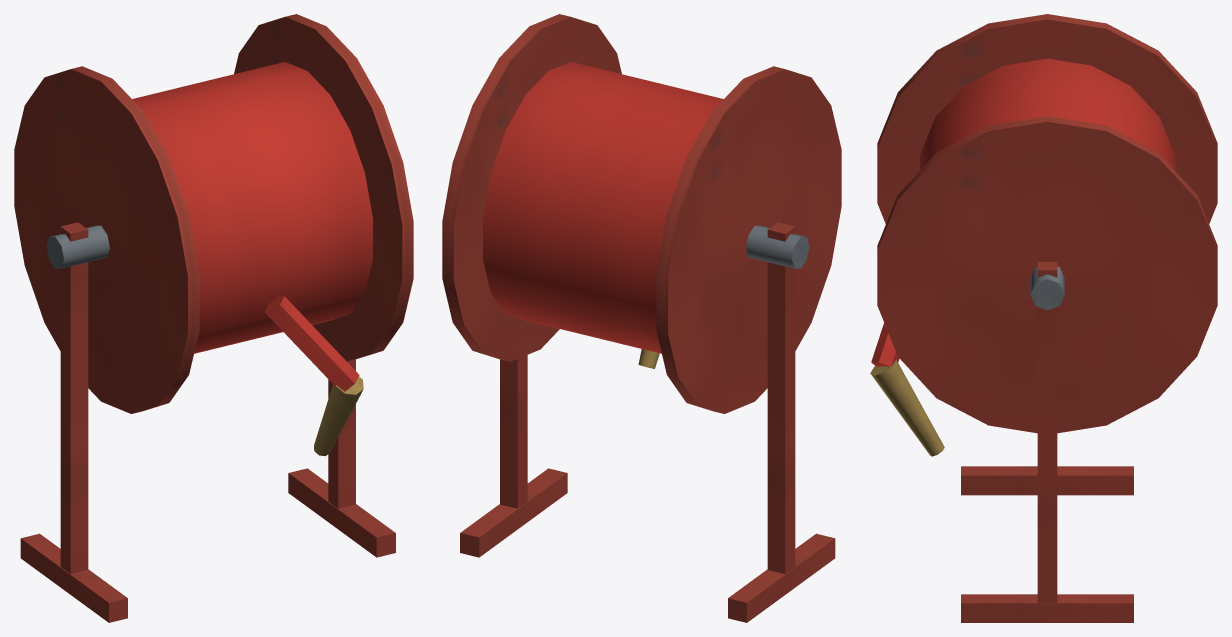
The model's file is hose_reel_lc.obj.
The picture shows the model from 3 angles, left to right: view 1: azimuth 30°, elevation 25°; view 2: azimuth 150°, elevation 25°; view 3: azimuth 270°, elevation 25°; orthographic projection. The views are drawn at different scales.
Visible parts, largest first — view 1: hose_reel_lc; view 2: hose_reel_lc; view 3: hose_reel_lc.
Part boxes in pixels (x1,y1,x2,y2): hose_reel_lc: (14, 14, 413, 622); hose_reel_lc: (442, 14, 841, 622); hose_reel_lc: (870, 14, 1217, 622).
Size of the model in its own units: 0.8 by 1.25 by 0.8042.
1 material, 1 textured.
